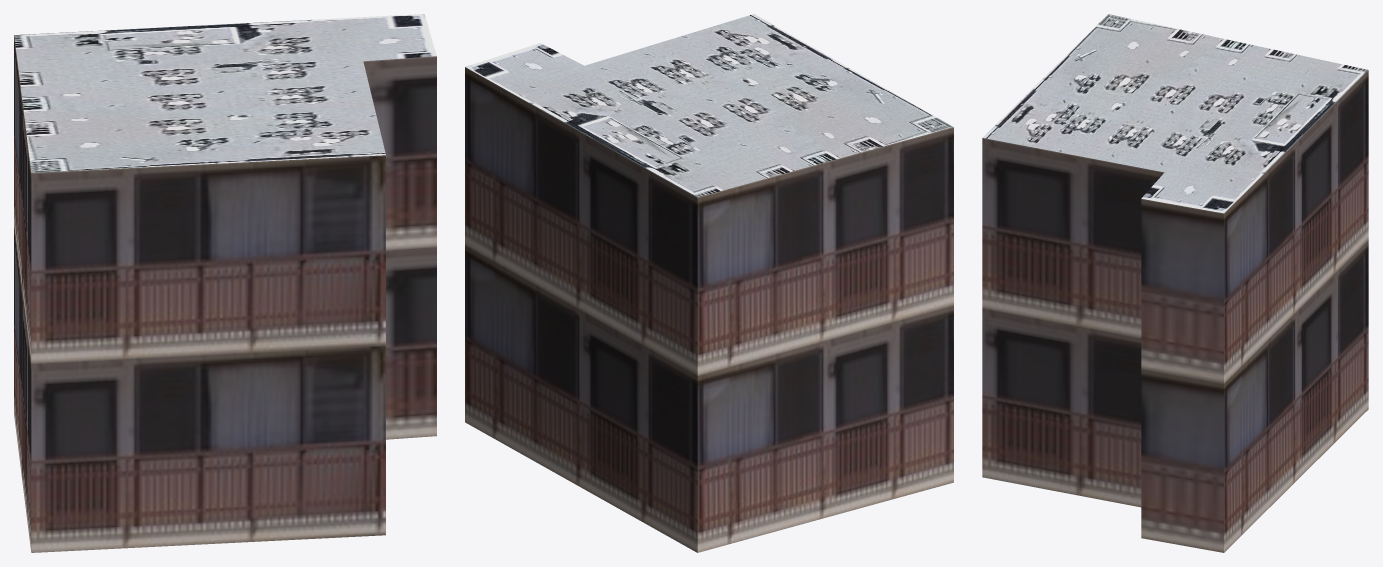
File: ResTex__4002.fbx
3 views of the same model, side by side, from view 1: azimuth 30°, elevation 25°; view 2: azimuth 150°, elevation 25°; view 3: azimuth 270°, elevation 25° (orthographic). The views are drawn at different scales.
Parts seen in each view (by area): view 1: CityEngineMaterial_6_m, CityEngineMaterial_m; view 2: CityEngineMaterial_6_m, CityEngineMaterial_m; view 3: CityEngineMaterial_6_m, CityEngineMaterial_m.
Part boxes in pixels (x1=…): CityEngineMaterial_6_m: x1=14, y1=35, x2=436, y2=552; CityEngineMaterial_m: x1=14, y1=14, x2=436, y2=172; CityEngineMaterial_6_m: x1=465, y1=67, x2=953, y2=552; CityEngineMaterial_m: x1=465, y1=14, x2=953, y2=197; CityEngineMaterial_6_m: x1=982, y1=70, x2=1368, y2=552; CityEngineMaterial_m: x1=982, y1=14, x2=1367, y2=213.
Size of the model in its own units: 7.56 by 6 by 6.19.
2 materials, 2 textured.
